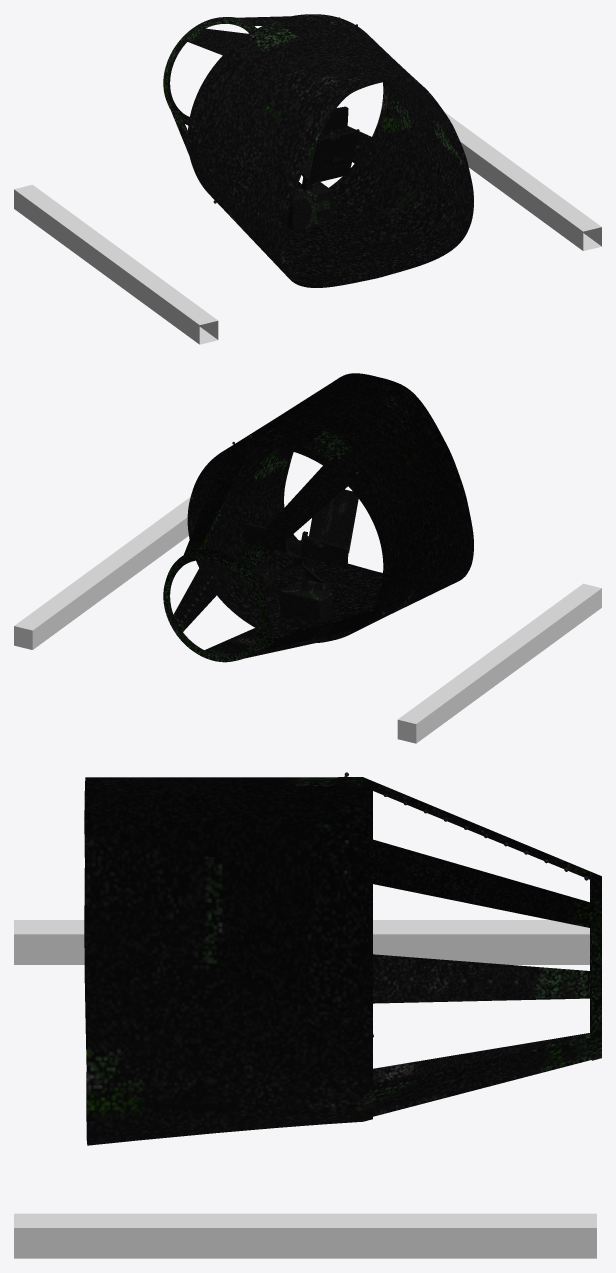
The model's file is shipboard.fbx.
3 views of the same model, one above another, from view 1: azimuth 30°, elevation 25°; view 2: azimuth 150°, elevation 25°; view 3: azimuth 270°, elevation 25° (orthographic). The views are drawn at different scales.
Parts seen in each view (by area): view 1: Cylinder, Cube.001, Cube; view 2: Cylinder, Cube.001, Cube; view 3: Cylinder, Cube.001.
Part boxes in pixels (x1,y1,x2,y2): Cylinder: [163, 14, 473, 287]; Cube.001: [14, 112, 601, 344]; Cube: [286, 106, 359, 230]; Cylinder: [163, 373, 473, 662]; Cube.001: [14, 497, 601, 743]; Cube: [243, 489, 358, 628]; Cylinder: [84, 777, 601, 1145]; Cube.001: [14, 920, 596, 1258].
Size of the model in its own units: 690 by 329 by 556.
